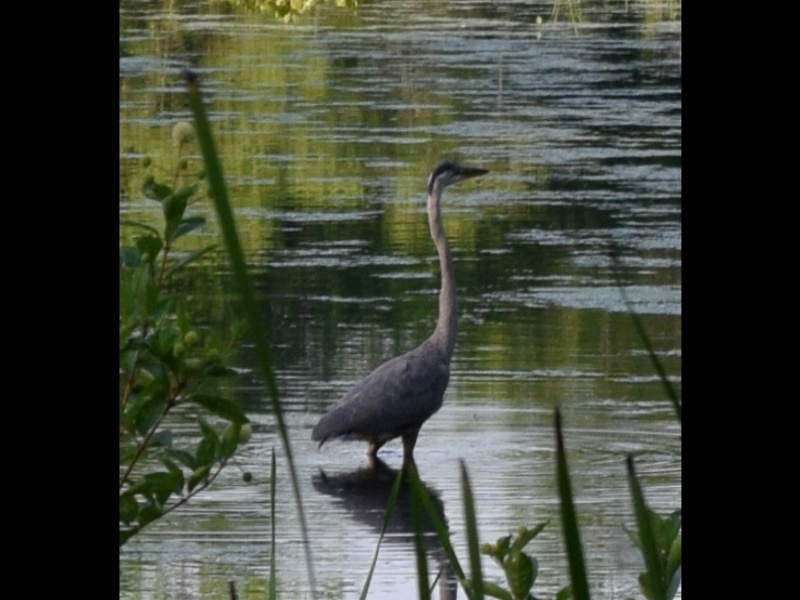heron: (308, 158, 495, 460)
